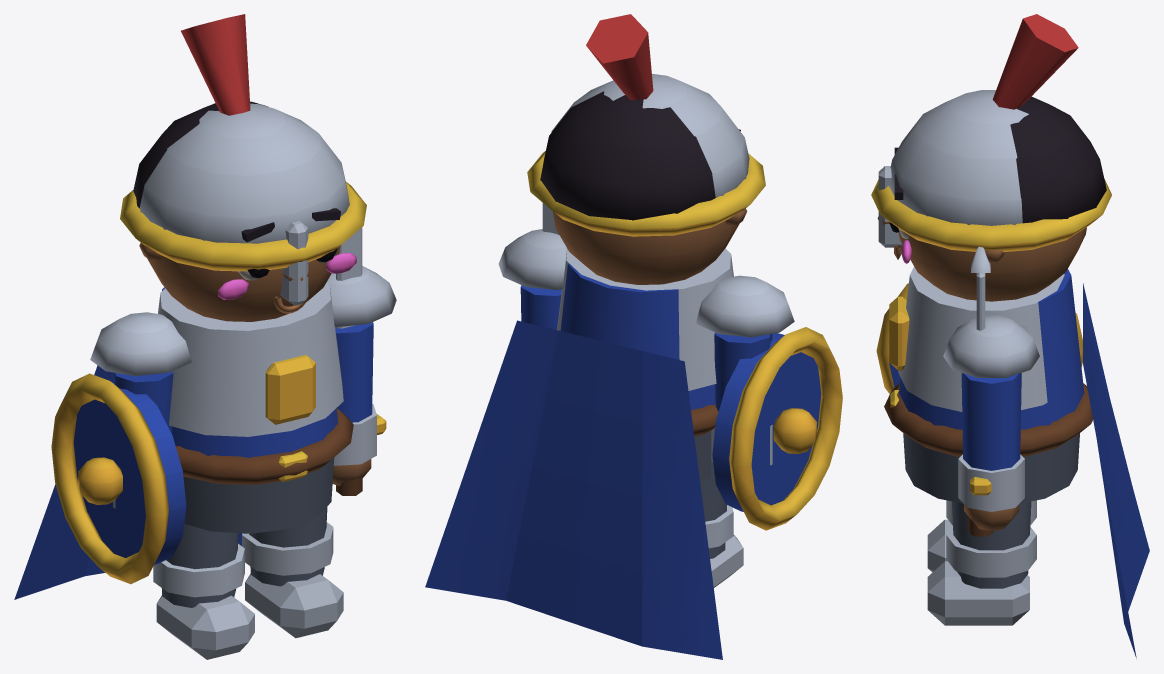
File: hero_toben.glb
3 views of the same model, side by side, from view 1: azimuth 30°, elevation 25°; view 2: azimuth 150°, elevation 25°; view 3: azimuth 270°, elevation 25° (orthographic). The views are drawn at different scales.
Visible parts, largest first — view 1: body_t0_palette, arml_t0_palette, legl_t0_palette, armr_t0_palette, legr_t0_palette; view 2: body_t0_palette, arml_t0_palette, armr_t0_palette, legl_t0_palette; view 3: body_t0_palette, armr_t0_palette, legr_t0_palette, arml_t0_palette, legl_t0_palette.
Boxes of the visible parts, <box> form: body_t0_palette: <box>14,14,366,599</box>; arml_t0_palette: <box>51,312,191,584</box>; legl_t0_palette: <box>153,524,254,659</box>; armr_t0_palette: <box>327,227,396,495</box>; legr_t0_palette: <box>242,507,343,638</box>; body_t0_palette: <box>425,14,765,659</box>; arml_t0_palette: <box>696,275,842,530</box>; armr_t0_palette: <box>498,203,566,329</box>; legl_t0_palette: <box>700,462,743,587</box>; body_t0_palette: <box>871,14,1149,658</box>; armr_t0_palette: <box>943,247,1039,536</box>; legr_t0_palette: <box>927,501,1036,625</box>; arml_t0_palette: <box>876,283,1082,393</box>; legl_t0_palette: <box>927,500,1036,572</box>.
Size of the model in its own units: 0.3349 by 0.5929 by 0.259.
